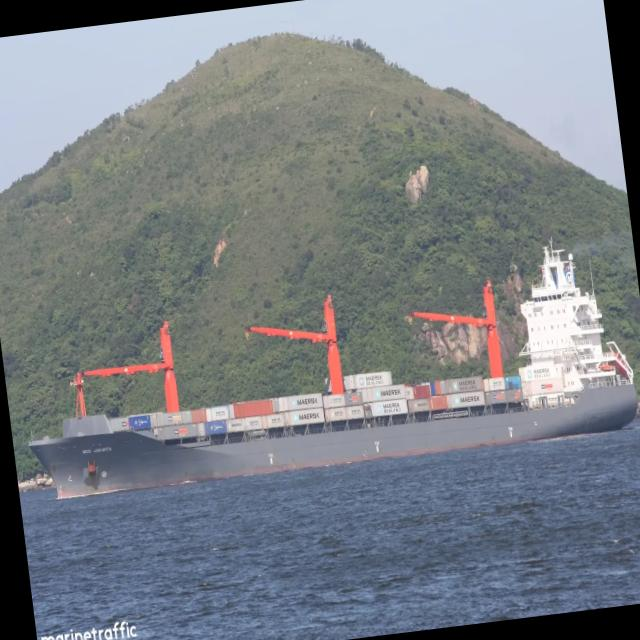Cargo: (29, 241, 637, 497)
